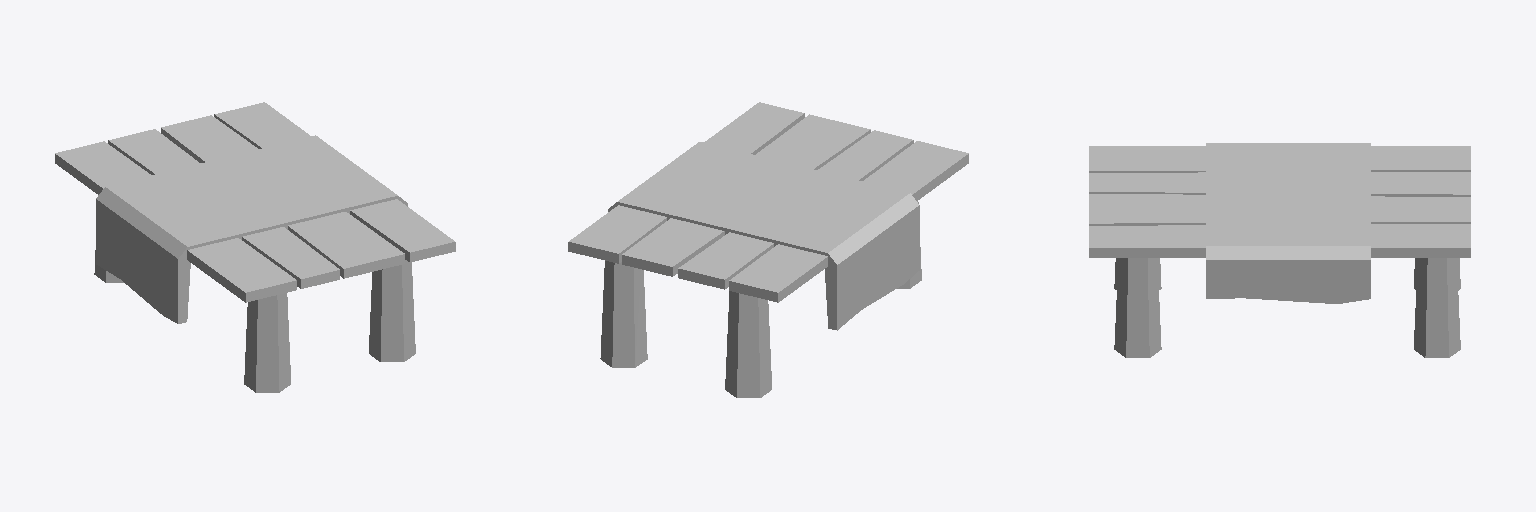
The model's file is table_001.obj.
The picture shows the model from 3 angles: view 1: azimuth 30°, elevation 25°; view 2: azimuth 150°, elevation 25°; view 3: azimuth 270°, elevation 25°; orthographic projection.
Visible parts, largest first — view 1: table_001; view 2: table_001; view 3: table_001.
Part boxes in pixels (left/top/right/bottom): table_001: left=55, top=102, right=455, bottom=392; table_001: left=568, top=102, right=968, bottom=397; table_001: left=1089, top=143, right=1470, bottom=357.
Size of the model in its own units: 1.51 by 0.7762 by 2.17.